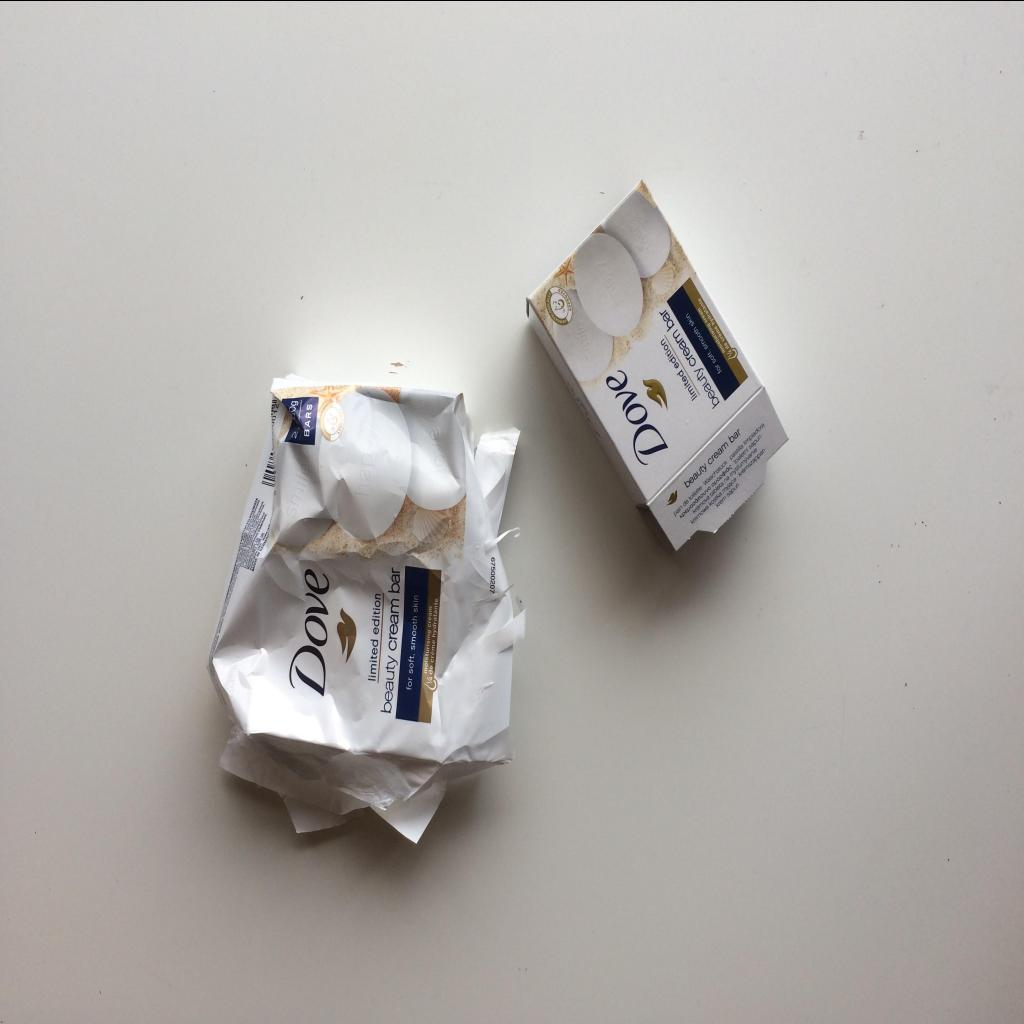Other carton: (527, 178, 789, 554)
Plastic film: (207, 373, 526, 843)
